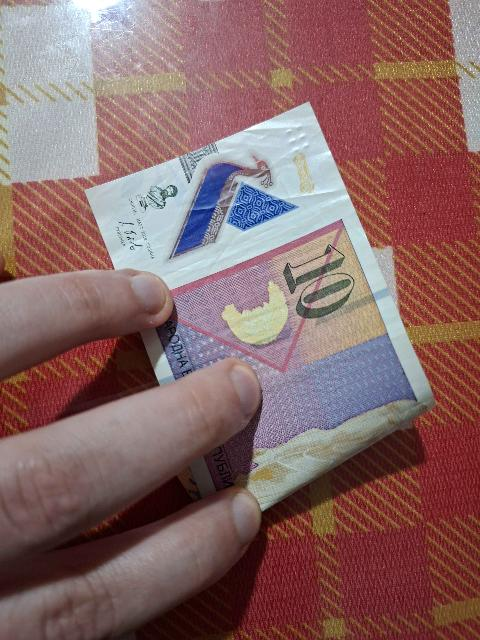10_note: (86, 112, 437, 504)
